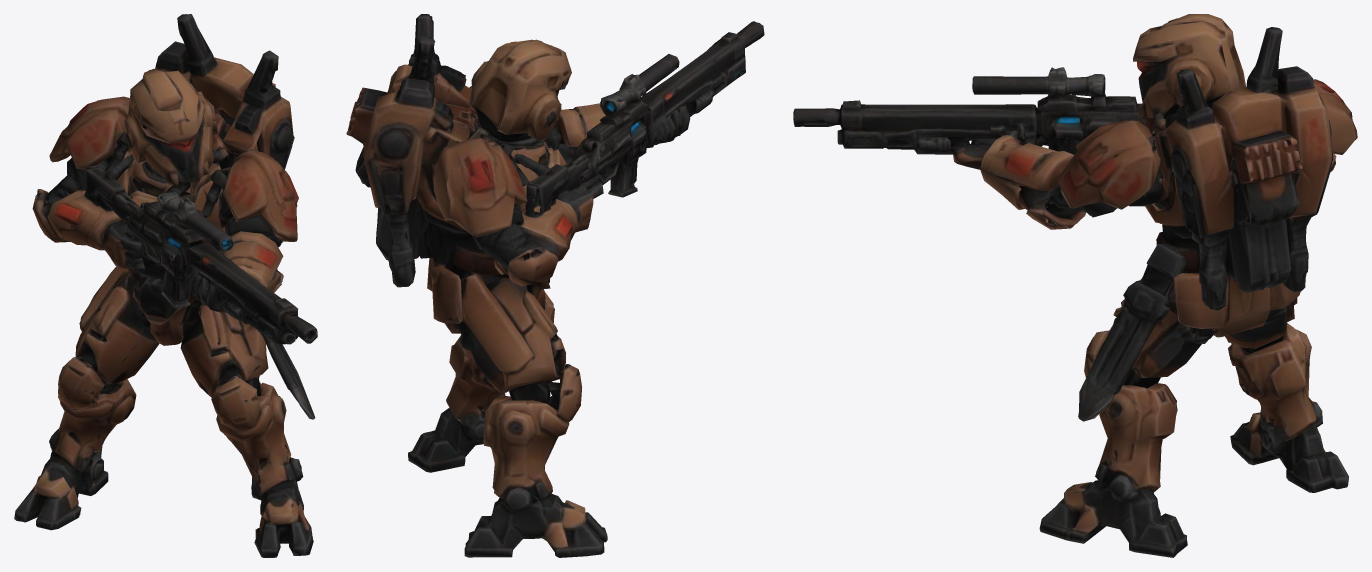
Rendered from 04_Tactical Grunts.glb.
3 views of the same model, side by side, from view 1: azimuth 30°, elevation 25°; view 2: azimuth 150°, elevation 25°; view 3: azimuth 270°, elevation 25° (orthographic). The views are drawn at different scales.
Size of the model in its own units: 0.5367 by 0.9347 by 0.9608.
1 material, 1 textured.
